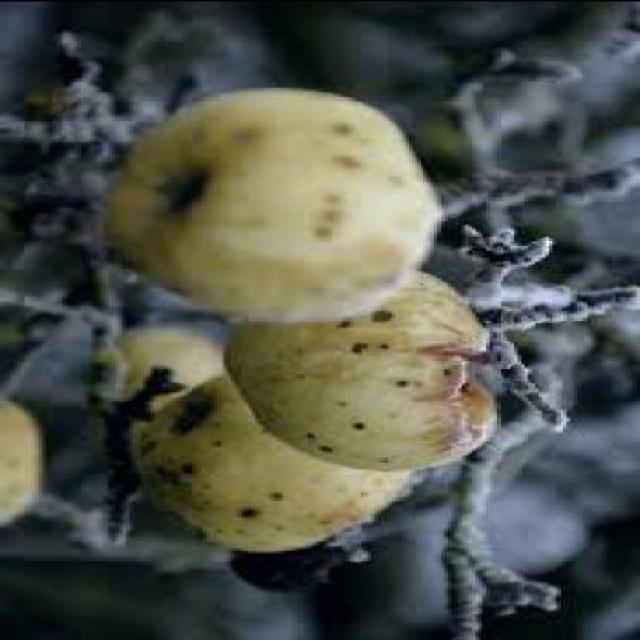BIODEGRADABLE: (105, 88, 448, 324), (227, 272, 504, 472), (137, 375, 423, 556), (112, 328, 245, 417), (4, 401, 56, 528)
